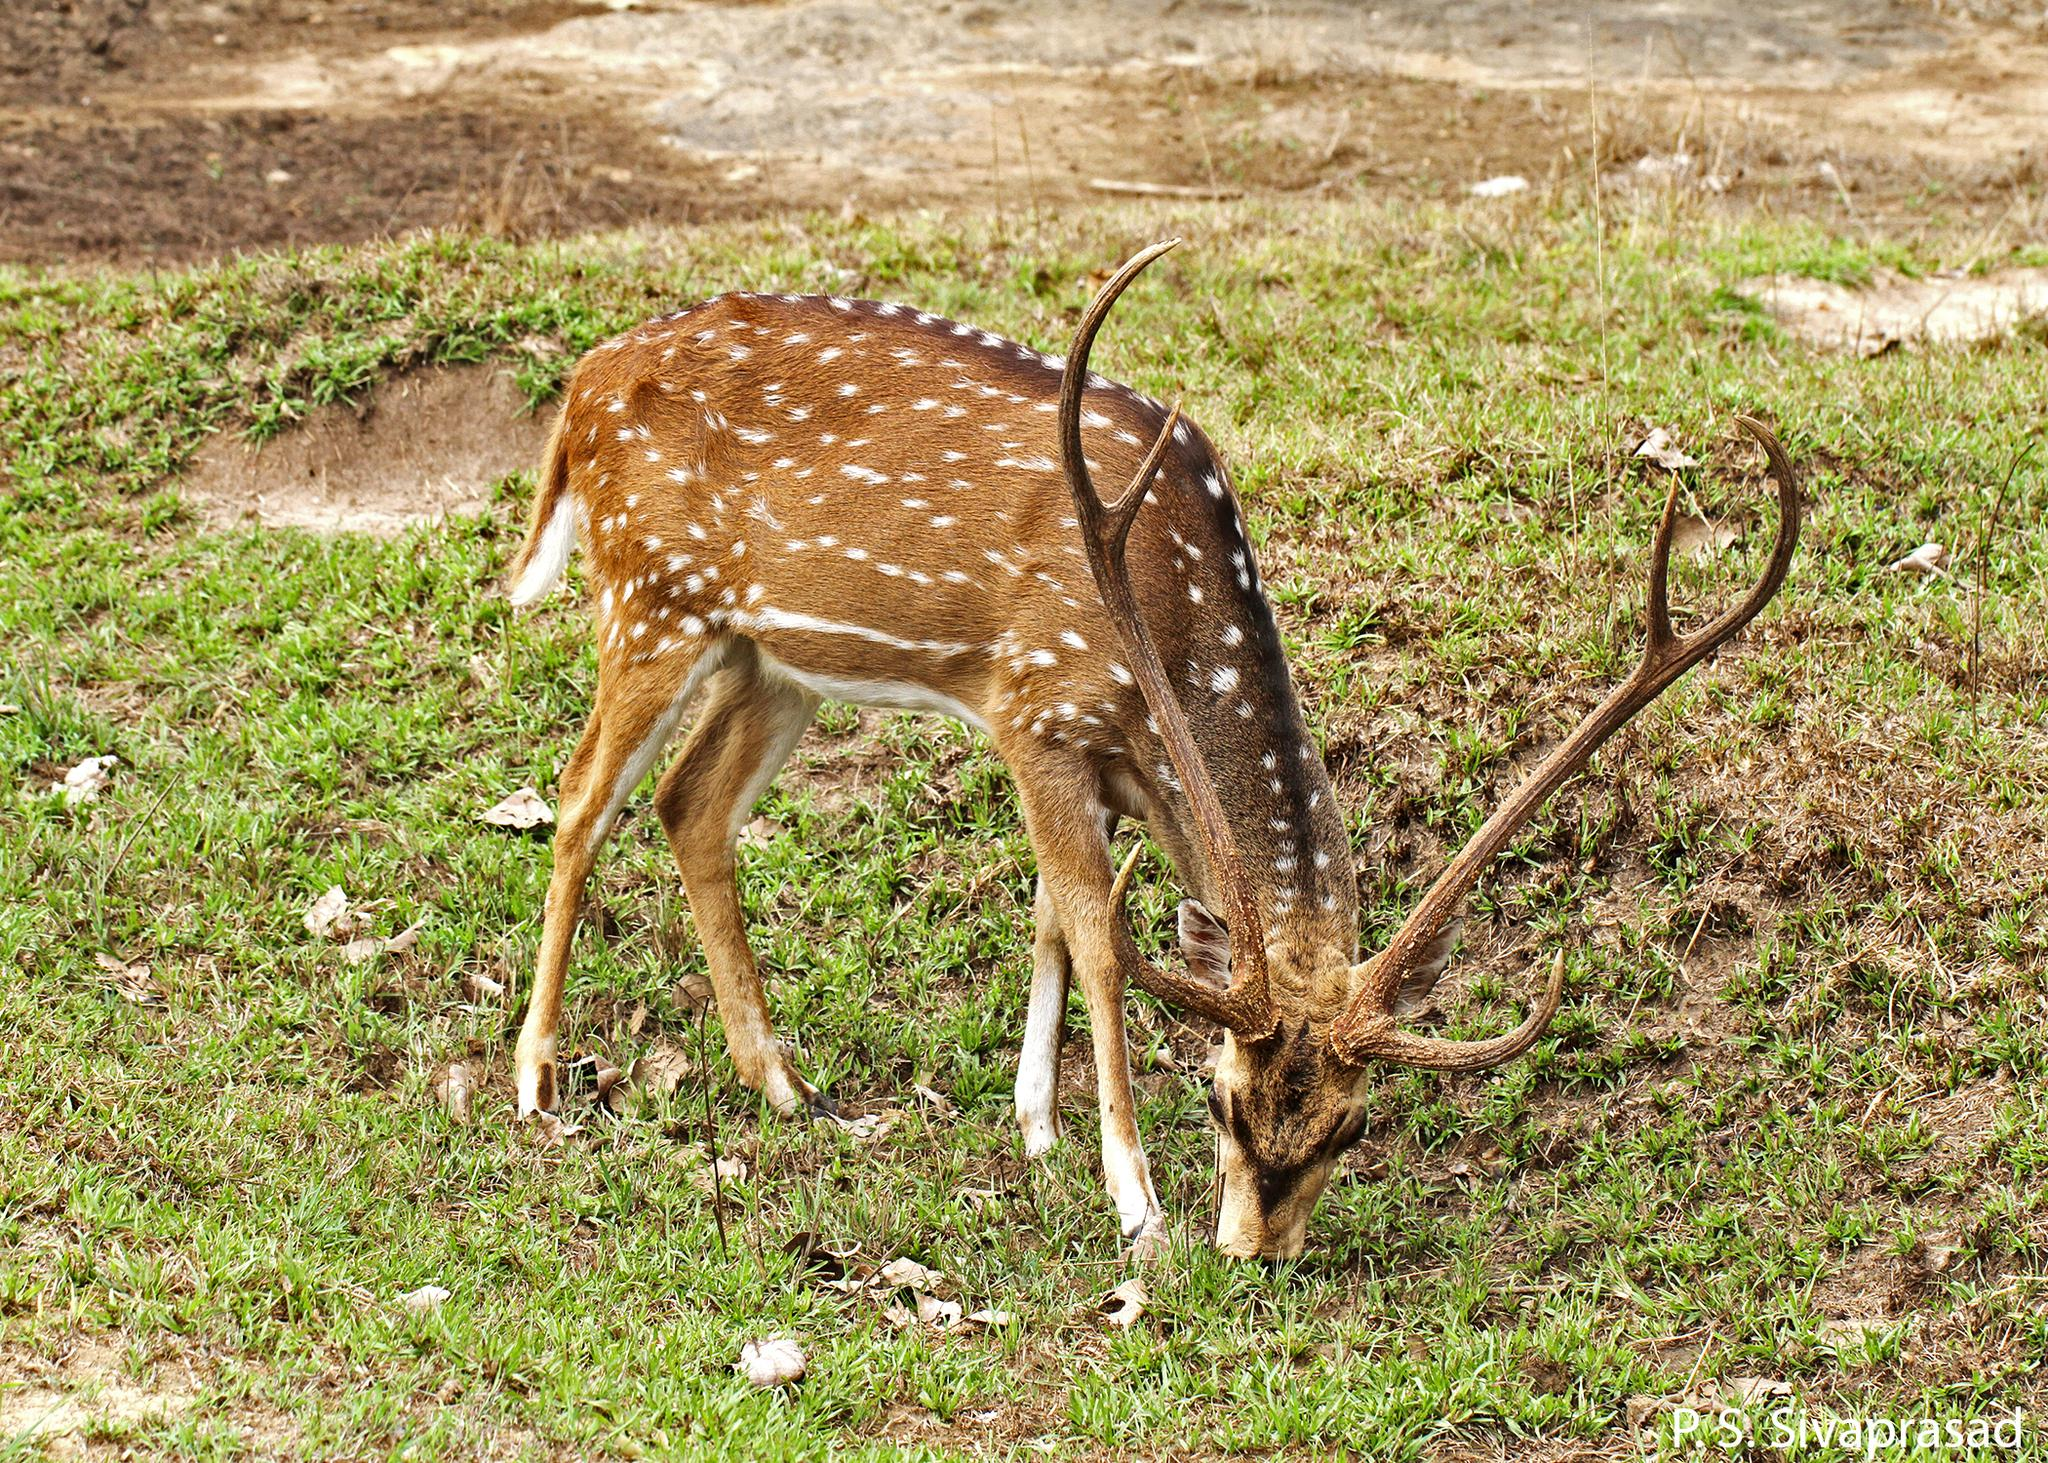Deer: (514, 242, 1800, 1257)
